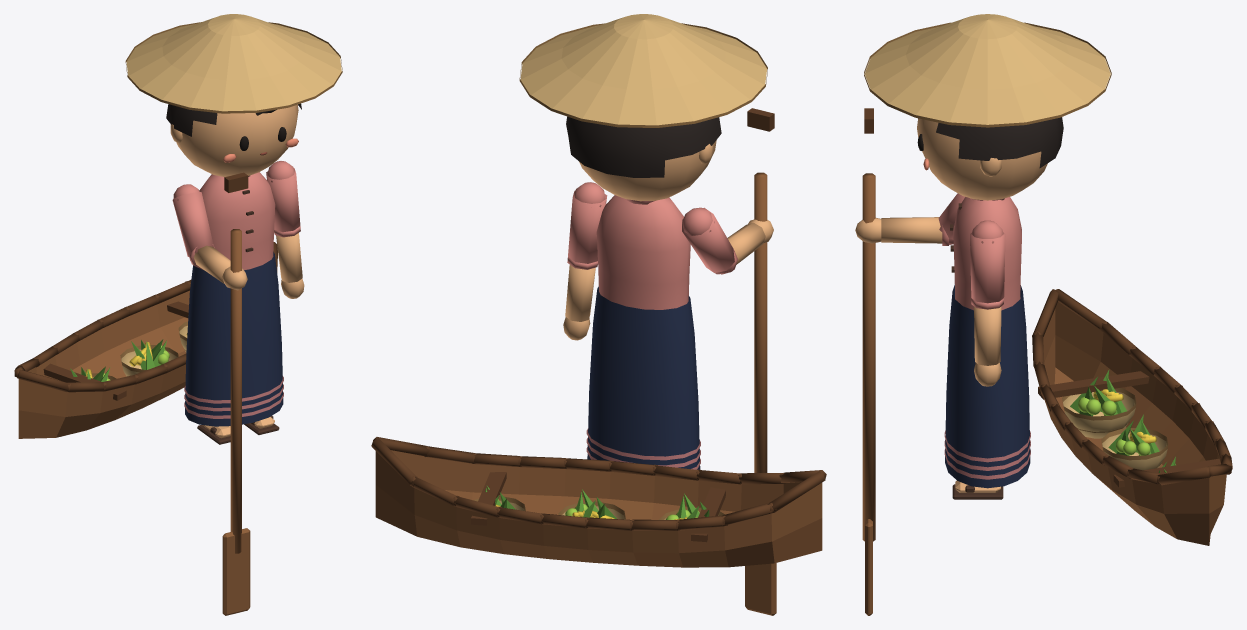
Rendered from central_boat_vendor.glb.
3 views of the same model, side by side, from view 1: azimuth 30°, elevation 25°; view 2: azimuth 150°, elevation 25°; view 3: azimuth 270°, elevation 25° (orthographic). The views are drawn at different scales.
Parts seen in each view (by area): view 1: head, body, prop_boat, prop_paddle, arm_R, arm_L, forearm_L, forearm_R, shin_R; view 2: prop_boat, head, body, prop_paddle, arm_L, arm_R, forearm_L, forearm_R; view 3: head, prop_boat, body, prop_paddle, arm_L, forearm_L, forearm_R, shin_L, arm_R.
Part boxes in pixels (x1,y1,x2,y2): head: [125, 14, 342, 176]; body: [184, 172, 283, 426]; prop_boat: [14, 242, 277, 438]; prop_paddle: [222, 172, 250, 615]; arm_R: [172, 184, 213, 260]; arm_L: [266, 161, 300, 232]; forearm_L: [274, 226, 304, 298]; forearm_R: [189, 244, 247, 290]; shin_R: [197, 425, 230, 444]; prop_boat: [371, 437, 826, 567]; head: [519, 14, 767, 201]; body: [586, 195, 700, 469]; prop_paddle: [745, 108, 776, 615]; arm_L: [568, 182, 607, 263]; arm_R: [682, 207, 734, 274]; forearm_L: [563, 257, 597, 340]; forearm_R: [719, 219, 773, 274]; head: [864, 14, 1111, 200]; prop_boat: [1032, 289, 1232, 545]; body: [944, 197, 1030, 488]; prop_paddle: [862, 108, 875, 615]; arm_L: [970, 220, 1005, 303]; forearm_L: [971, 298, 1003, 386]; forearm_R: [855, 217, 953, 245]; shin_L: [952, 480, 1003, 499]; arm_R: [938, 193, 964, 244].
Bounding box in the file's own units: 1.34 × 2.12 × 1.17.
